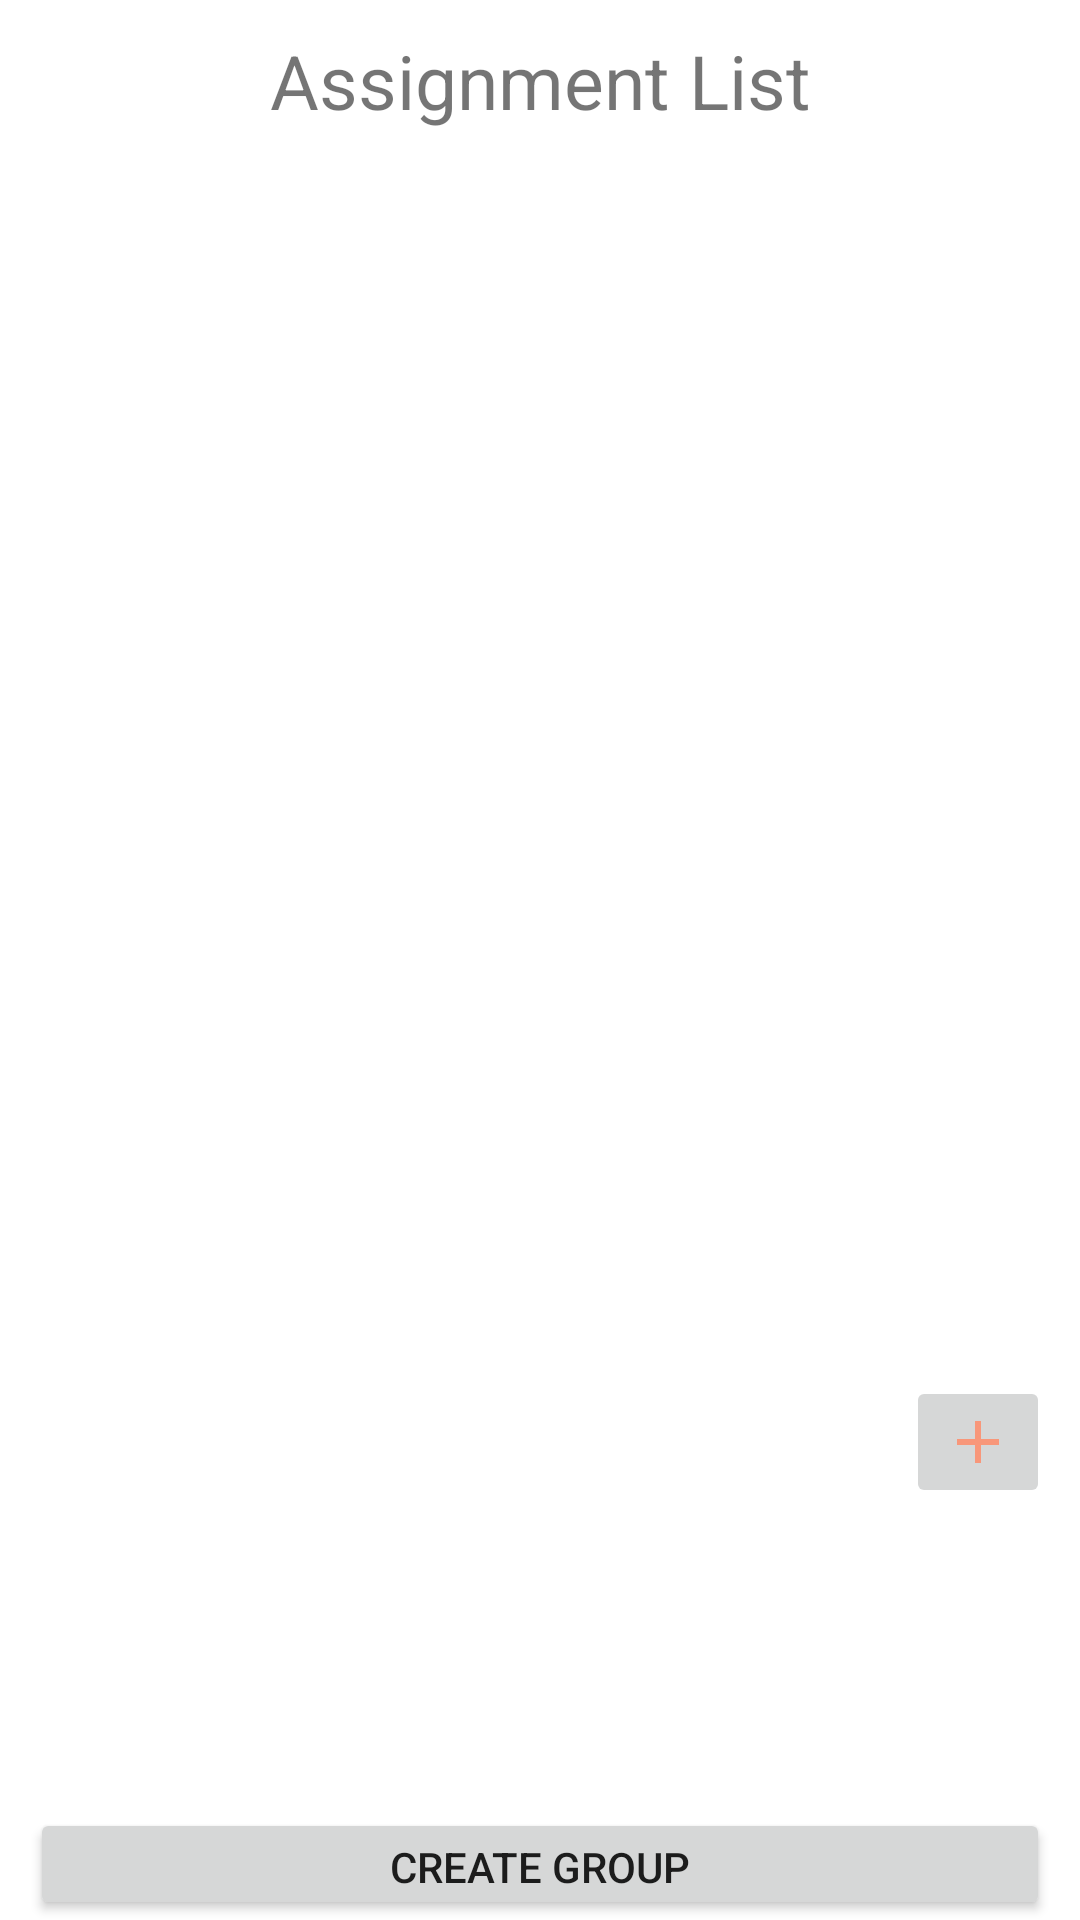

Named icons in this screenshot (1080 x 1920) and their centers, (x=x, y=y):
Add: (x=978, y=1442)
